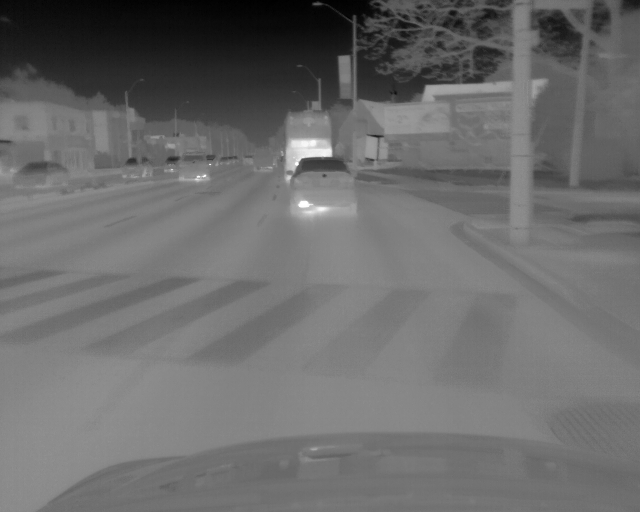car: (284, 156, 357, 219), (282, 112, 332, 179), (11, 161, 69, 192), (179, 153, 209, 183), (120, 157, 152, 179), (253, 148, 273, 171), (163, 156, 177, 173), (205, 154, 218, 166), (244, 155, 253, 166), (219, 157, 228, 167)
